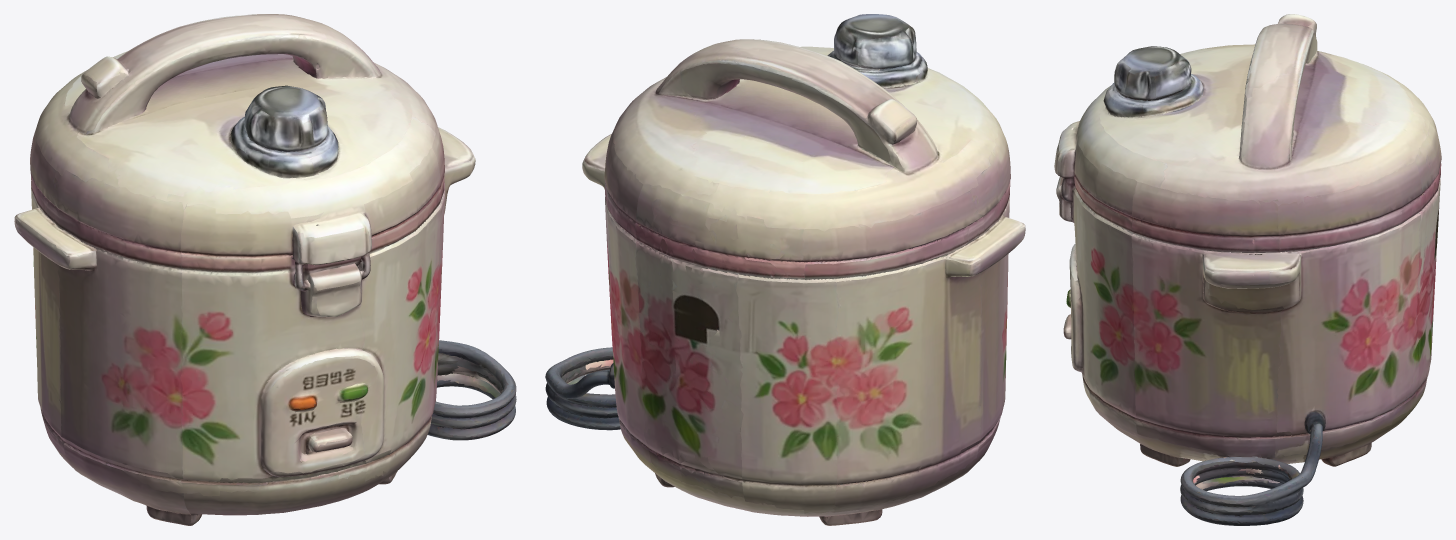
Rendered from ricecooker-fixed.glb.
3 renders of one model, left to right at view 1: azimuth 30°, elevation 25°; view 2: azimuth 150°, elevation 25°; view 3: azimuth 270°, elevation 25°, orthographic. The views are drawn at different scales.
Visible parts, largest first — view 1: geometry_0; view 2: geometry_0; view 3: geometry_0.
Boxes of the visible parts, x1,y1,x2,y2 form: geometry_0: [14, 14, 516, 525]; geometry_0: [545, 14, 1025, 525]; geometry_0: [1054, 14, 1441, 525].
Size of the model in its own units: 0.28 by 0.2478 by 0.2326.
1 material, 1 textured.
